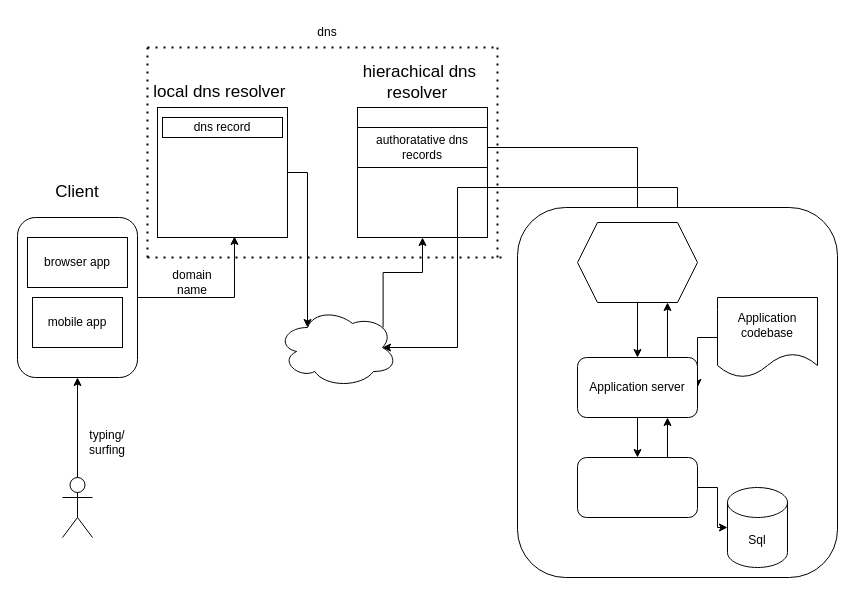
Some shapes in this 855 by 595 pixel diagram are drawn without their labels. The box of each missing label's shape, as (x1, y1, x2, y2) in pixels:
Actor: (62, 476, 92, 538)
Database server: (576, 456, 698, 518)
internet: (276, 306, 398, 388)
NGINX Web Server: (576, 222, 698, 302)
